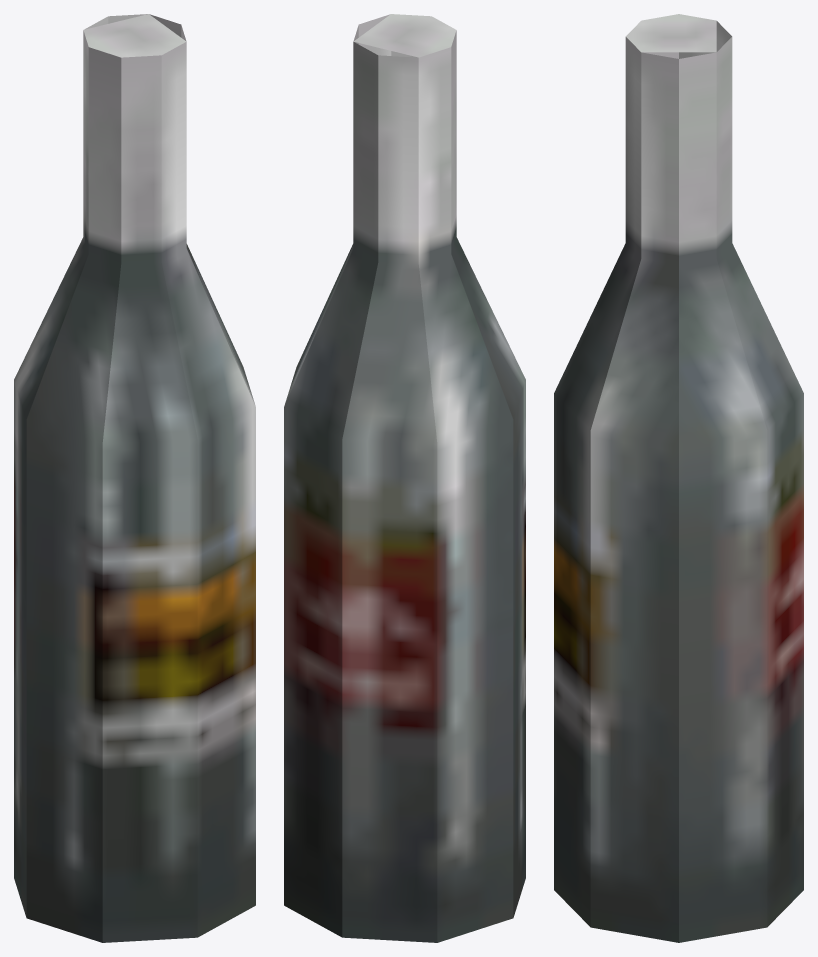
File: booze2.fbx
3 views of the same model, side by side, from view 1: azimuth 30°, elevation 25°; view 2: azimuth 150°, elevation 25°; view 3: azimuth 270°, elevation 25° (orthographic).
Parts seen in each view (by area): view 1: mesh_0; view 2: mesh_0; view 3: mesh_0.
Boxes of the visible parts, x1,y1,x2,y2 form: mesh_0: (14, 14, 255, 942); mesh_0: (284, 14, 525, 942); mesh_0: (554, 14, 803, 942).
Bounding box in the file's own units: 9.75 × 36.75 × 9.75.
Materials: 1 (1 with a texture image).
